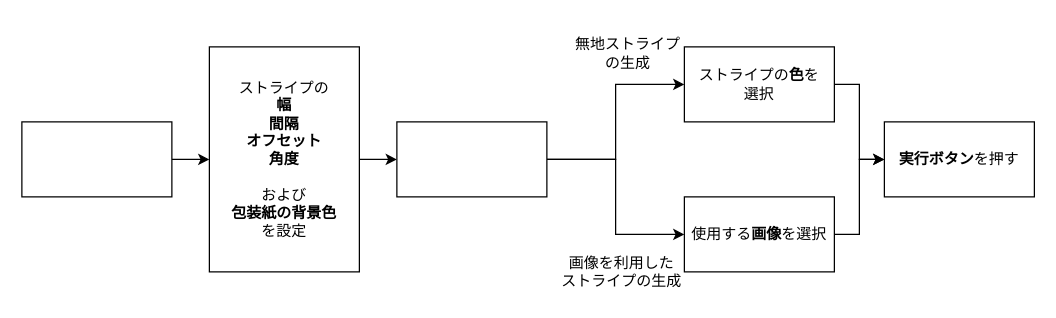
Some shapes in this 1056 by 318 pixel diagram are drawn without their labels. Here are the shapes that lost their labels. From the top down, the box of each, then its label:
(21, 121, 172, 197): 箱の 縦 ・ 横 ・ 高さ の値を入力
(396, 121, 547, 197): モード を選択
